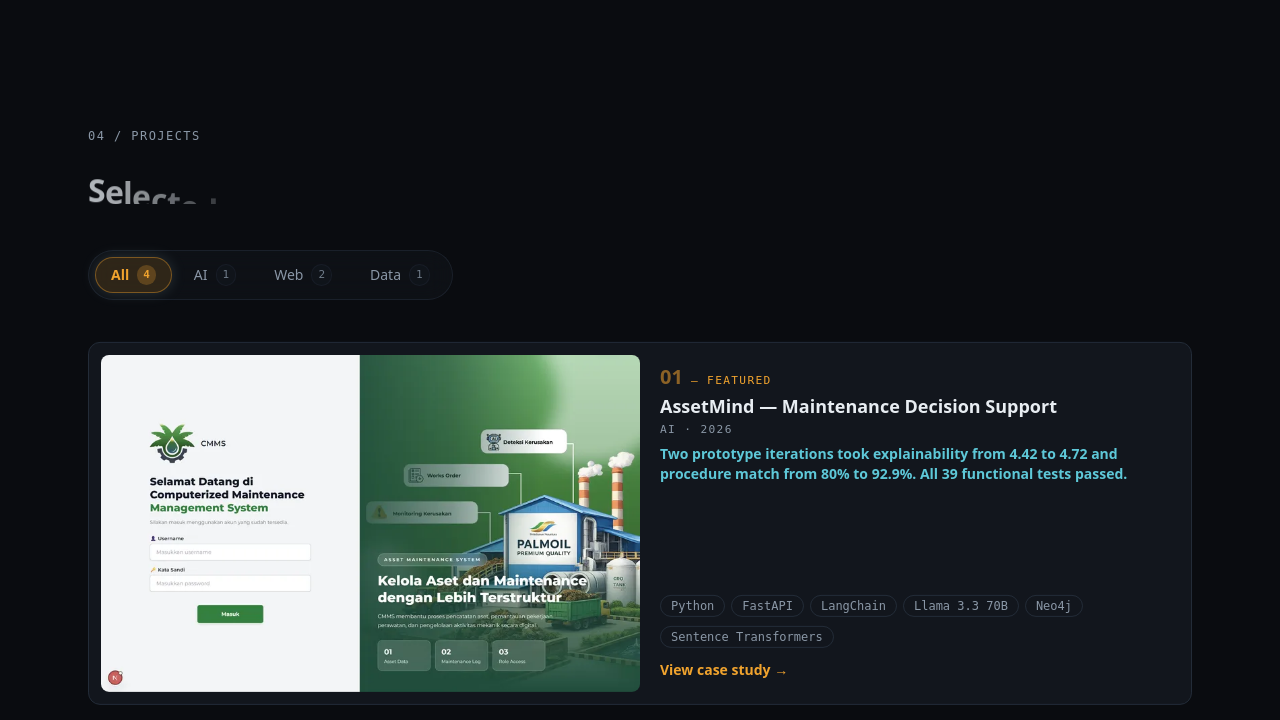
Test: project detail modal › lists the whole stack
Step 1. Click the button "AssetMind — Maintenance Decision Support" → [858, 406], box [660, 395, 1057, 417]
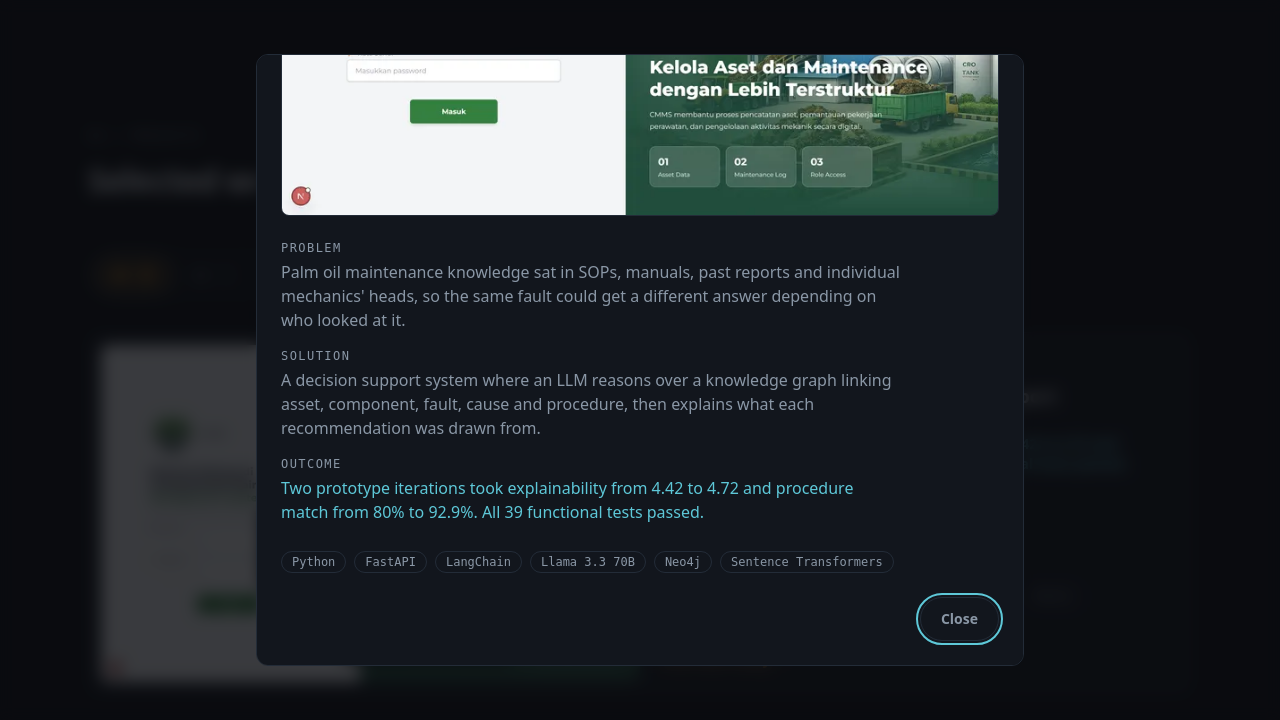
Now the text "Python" is shown, box [281, 550, 346, 572]
Now the text "FastAPI" is shown, box [354, 550, 427, 572]
Now the text "LangChain" is shown, box [435, 550, 522, 572]
